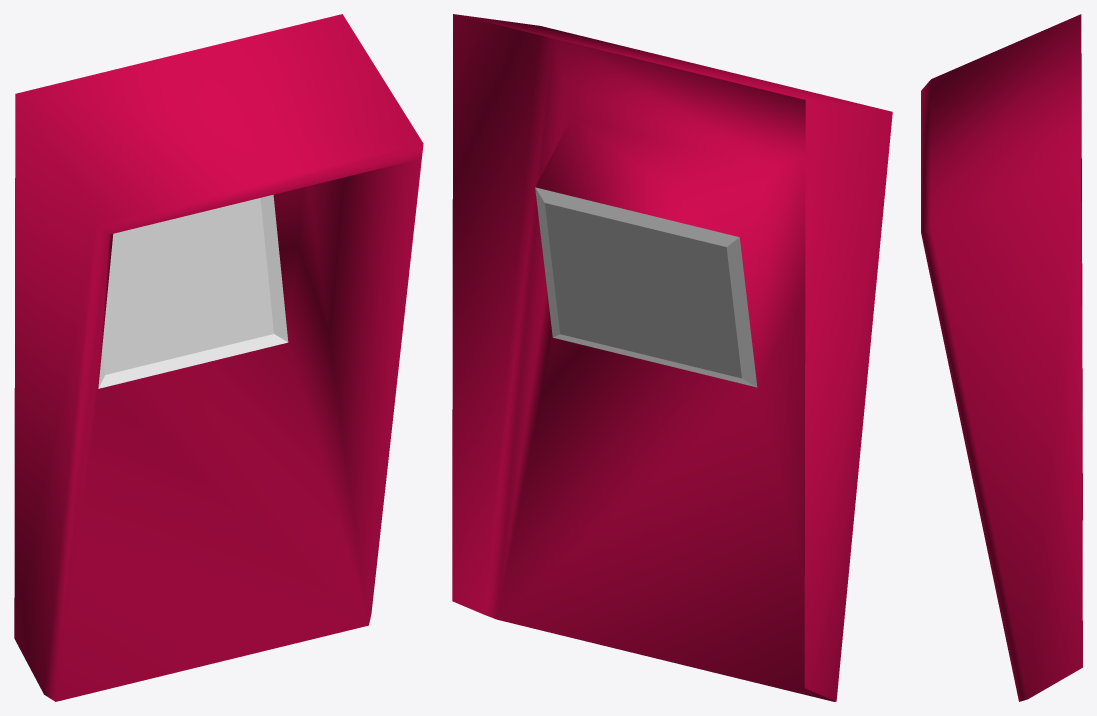
The model's file is Console.fbx.
3 renders of one model, left to right at view 1: azimuth 30°, elevation 25°; view 2: azimuth 150°, elevation 25°; view 3: azimuth 270°, elevation 25°, orthographic. The views are drawn at different scales.
Parts seen in each view (by area): view 1: Cube.217, Cube.763; view 2: Cube.217, Cube.763; view 3: Cube.217.
Boxes of the visible parts, bbox=[...] form: Cube.217: bbox=[14, 14, 423, 701]; Cube.763: bbox=[98, 194, 288, 388]; Cube.217: bbox=[452, 14, 892, 701]; Cube.763: bbox=[535, 187, 757, 387]; Cube.217: bbox=[921, 14, 1082, 701].
Bounding box in the file's own units: 135 × 230 × 62.28.
